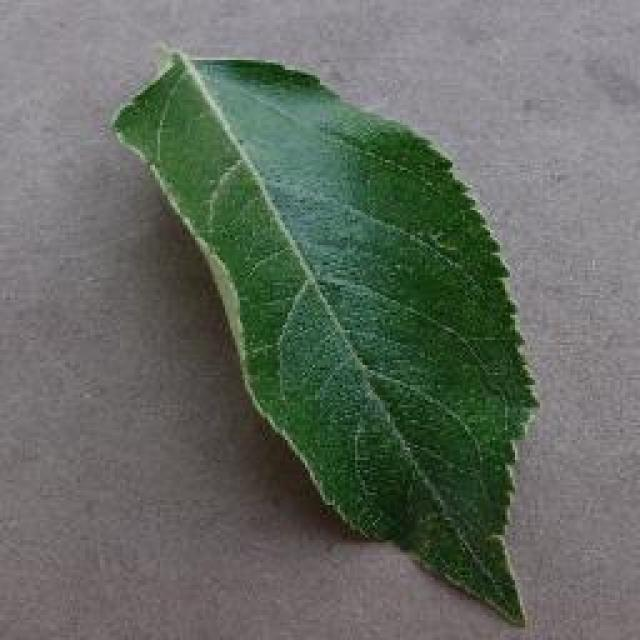apple scab disease: (108, 38, 542, 628)
